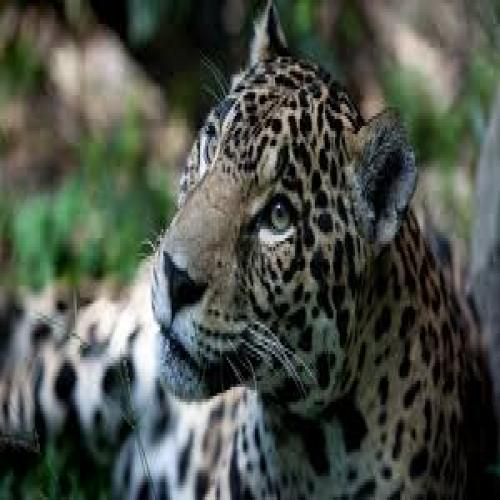jaguar_not-endangered: (0, 18, 475, 491)
